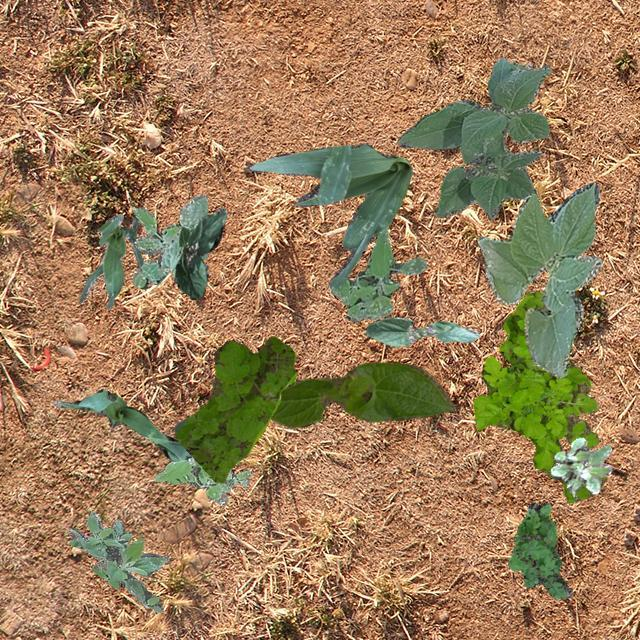crop: (396, 56, 550, 218), (476, 182, 602, 376), (248, 142, 412, 288), (270, 361, 452, 426), (52, 388, 190, 461), (157, 206, 226, 298), (78, 212, 142, 310), (364, 316, 478, 346)
weed: (472, 289, 604, 502), (172, 336, 294, 482), (68, 509, 168, 612), (326, 228, 426, 320), (132, 192, 208, 288), (506, 502, 572, 598), (154, 454, 252, 504), (550, 436, 612, 496)
